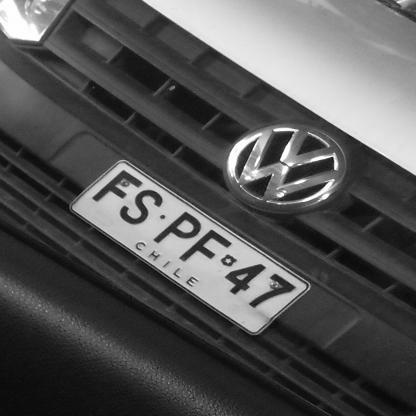Patente: (67, 160, 313, 338)
